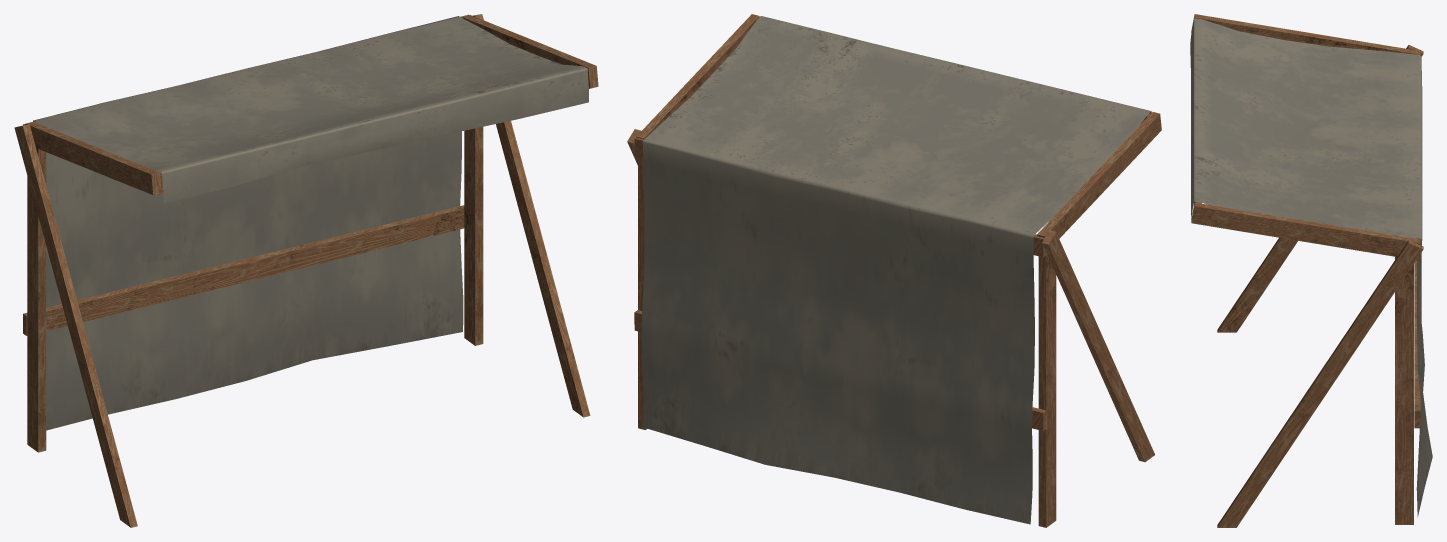
Rendered from Canopy.fbx.
3 renders of one model, left to right at view 1: azimuth 30°, elevation 25°; view 2: azimuth 150°, elevation 25°; view 3: azimuth 270°, elevation 25°, orthographic. The views are drawn at different scales.
Visible parts, largest first — view 1: Canopy; view 2: Canopy; view 3: Canopy.
Boxes of the visible parts, x1,y1,x2,y2 form: Canopy: (14,14,598,527); Canopy: (627,14,1161,527); Canopy: (1190,14,1432,527).
Size of the model in its own units: 292 by 219 by 151.
